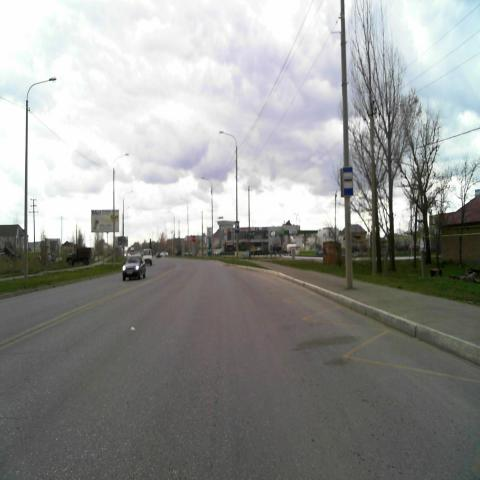5_16: (343, 166, 353, 195)
7_3: (235, 220, 240, 233)
